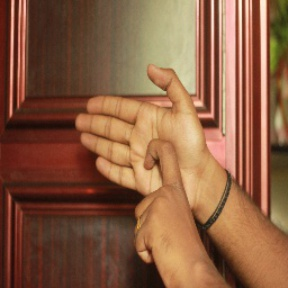R: (77, 47, 217, 251)
